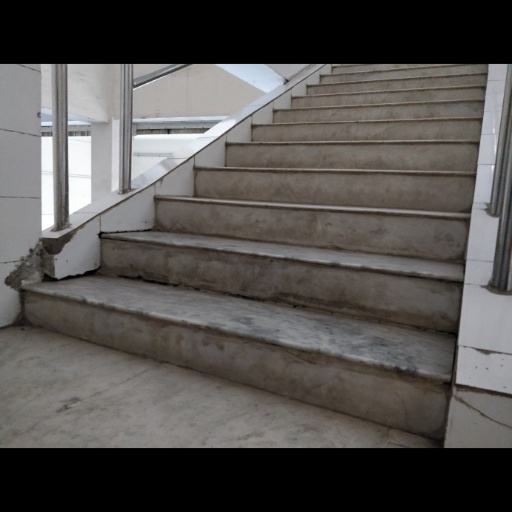Stairs: (25, 66, 485, 441)
